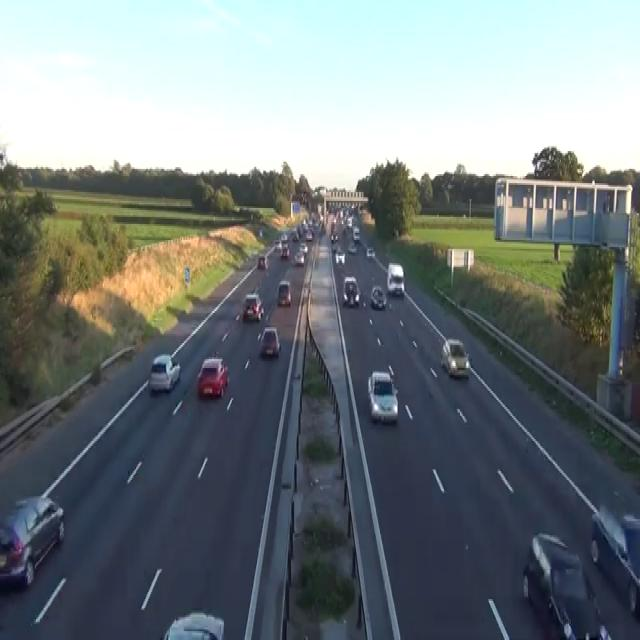Car: (522, 532, 612, 638), (0, 494, 65, 588), (590, 503, 639, 615), (522, 532, 575, 615), (367, 370, 398, 423), (162, 612, 224, 638), (197, 356, 229, 398), (149, 352, 181, 393), (440, 338, 470, 377), (259, 326, 280, 358), (242, 292, 264, 322), (386, 263, 405, 295), (342, 276, 360, 306), (370, 284, 386, 310), (584, 624, 613, 638), (277, 279, 291, 306), (633, 297, 639, 341), (335, 247, 345, 265), (257, 254, 268, 268), (280, 243, 289, 260), (294, 251, 304, 265), (366, 245, 375, 258), (273, 238, 282, 251), (352, 228, 360, 242), (300, 190, 308, 204), (347, 242, 356, 254), (299, 242, 308, 254), (330, 231, 338, 242), (305, 229, 313, 240), (346, 215, 352, 229), (292, 231, 299, 242), (281, 233, 288, 242), (331, 242, 338, 250), (259, 228, 262, 236)
